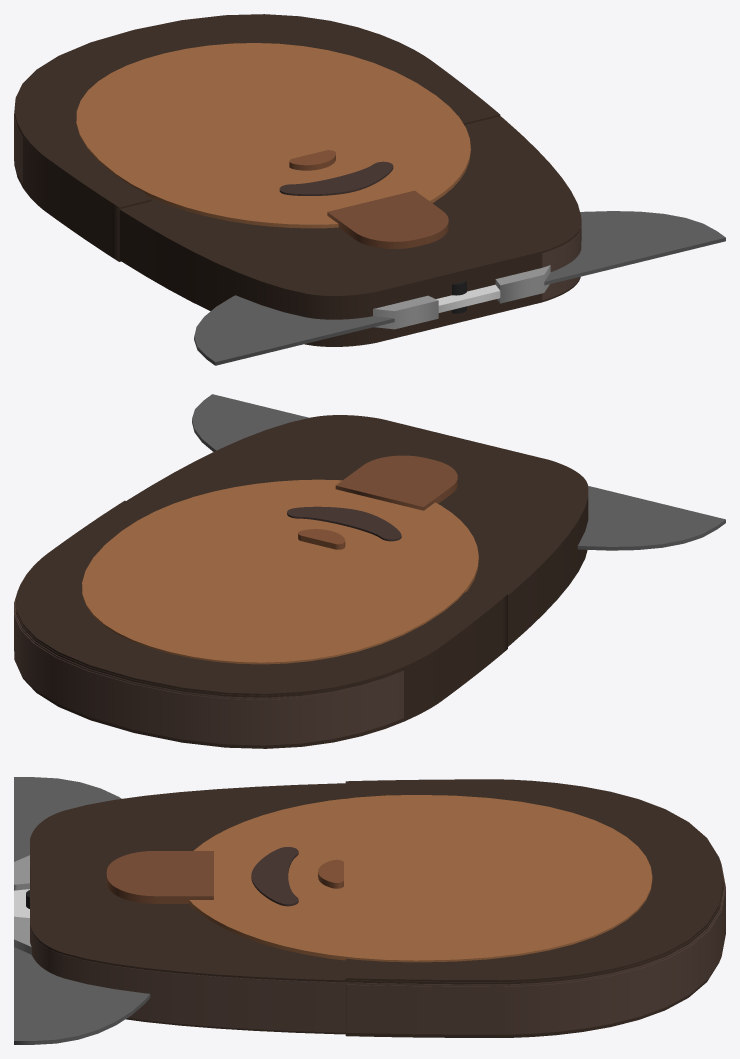
Rendered from emoji_u1f935_1f3fe_200d_2640.glb.
3 views of the same model, one above another, from view 1: azimuth 30°, elevation 25°; view 2: azimuth 150°, elevation 25°; view 3: azimuth 270°, elevation 25° (orthographic). The views are drawn at different scales.
Visible parts, largest first — view 1: emoji_u1f935_1f3fe_200d_2640; view 2: emoji_u1f935_1f3fe_200d_2640; view 3: emoji_u1f935_1f3fe_200d_2640.
Boxes of the visible parts, bbox=[...] form: emoji_u1f935_1f3fe_200d_2640: bbox=[14, 14, 725, 365]; emoji_u1f935_1f3fe_200d_2640: bbox=[14, 394, 725, 748]; emoji_u1f935_1f3fe_200d_2640: bbox=[14, 777, 725, 1044].
Bounding box in the file's own units: 0.0294 × 0.0038 × 0.0334.
